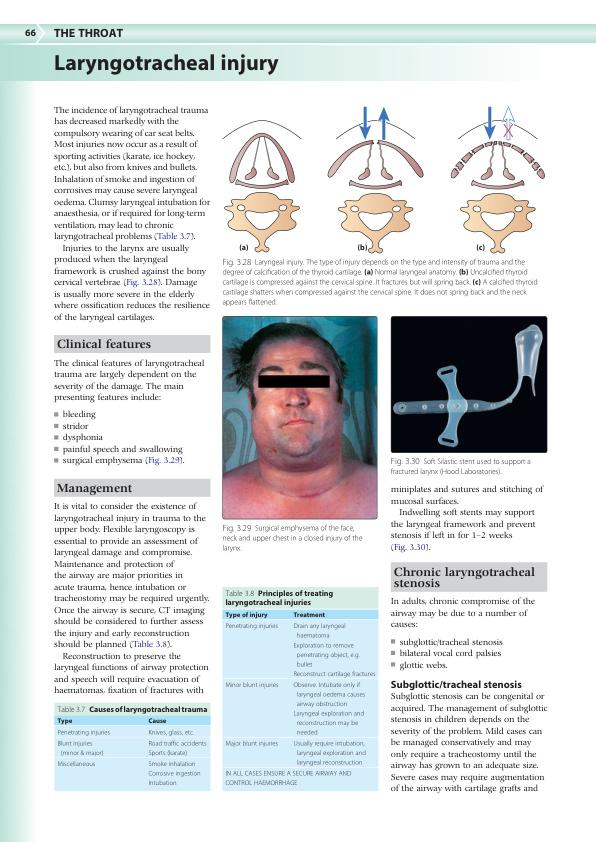caption: (222, 257, 539, 307), (221, 524, 363, 553), (390, 457, 532, 476), (224, 589, 334, 608), (56, 705, 208, 715), (357, 243, 368, 251), (476, 243, 485, 252), (239, 243, 249, 251)
chapter-heading: (53, 52, 280, 77)
header: (52, 27, 124, 38)
image: (221, 315, 379, 520), (390, 316, 548, 454), (321, 101, 432, 256), (442, 101, 552, 256), (220, 101, 307, 255)
list: (52, 408, 185, 467), (389, 637, 503, 672)
section-heading: (393, 566, 537, 589), (56, 337, 152, 350), (57, 483, 133, 496)
sub-section-heading: (390, 679, 523, 691)
table: (222, 610, 378, 792), (54, 715, 211, 792)
text: (52, 105, 212, 324), (53, 501, 211, 695), (390, 691, 549, 795), (390, 484, 546, 553), (52, 357, 207, 404), (389, 596, 536, 629)
